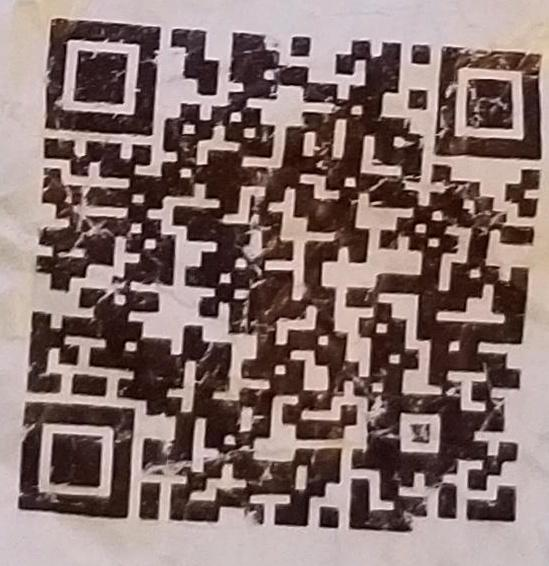qrcode: (18, 18, 544, 533)
